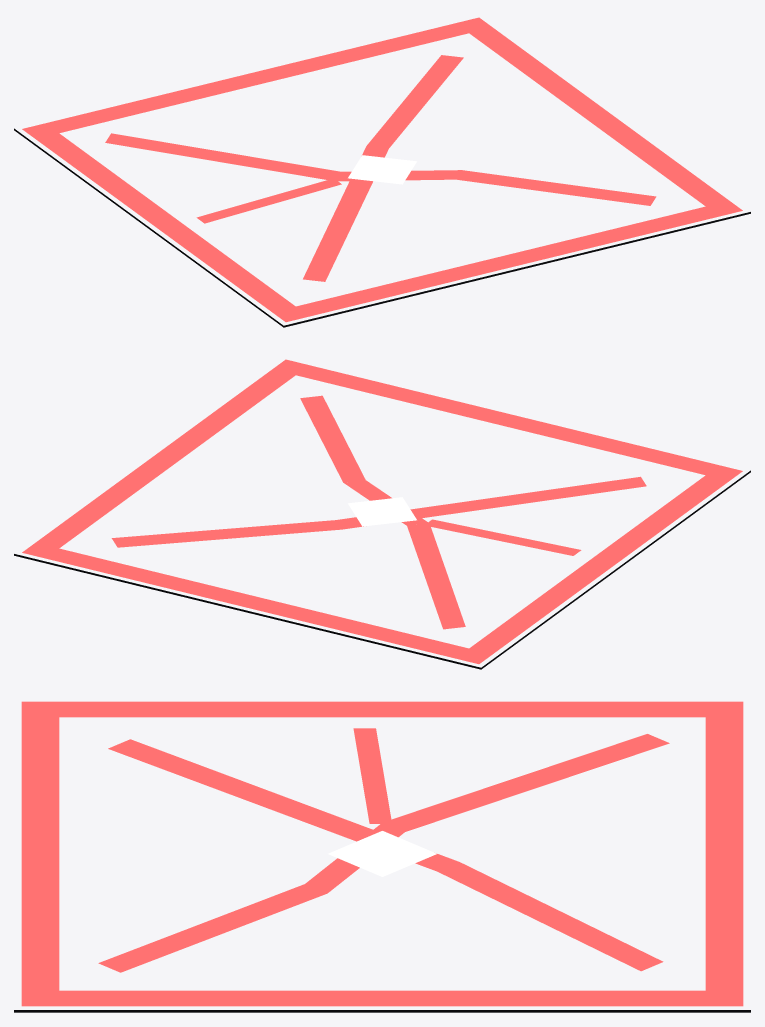
File: OVL_Arena_Collapse_Warn.glb
3 renders of one model, top to bottom at view 1: azimuth 30°, elevation 25°; view 2: azimuth 150°, elevation 25°; view 3: azimuth 270°, elevation 25°, orthographic. The views are drawn at different scales.
Parts seen in each view (by area): view 1: OVL_Collapse_RedBorder, OVL_Collapse_CrackDecals, OVL_Carrier_Collapse, OVL_Collapse_CenterAlert; view 2: OVL_Collapse_RedBorder, OVL_Collapse_CrackDecals, OVL_Carrier_Collapse, OVL_Collapse_CenterAlert; view 3: OVL_Collapse_RedBorder, OVL_Collapse_CrackDecals, OVL_Collapse_CenterAlert, OVL_Carrier_Collapse.
Part boxes in pixels (x1,y1,x2,y2): OVL_Collapse_RedBorder: [22, 17, 742, 322]; OVL_Collapse_CrackDecals: [105, 55, 656, 281]; OVL_Carrier_Collapse: [14, 128, 750, 327]; OVL_Collapse_CenterAlert: [348, 155, 416, 184]; OVL_Collapse_RedBorder: [22, 359, 742, 664]; OVL_Collapse_CrackDecals: [111, 395, 646, 629]; OVL_Carrier_Collapse: [14, 470, 750, 669]; OVL_Collapse_CenterAlert: [348, 497, 416, 526]; OVL_Collapse_RedBorder: [21, 701, 743, 1006]; OVL_Collapse_CrackDecals: [98, 728, 669, 972]; OVL_Collapse_CenterAlert: [328, 831, 436, 876]; OVL_Carrier_Collapse: [14, 1010, 750, 1012].
Bounding box in the file's own units: 11.4 × 0.05 × 11.4.
3 materials, 3 textured.
